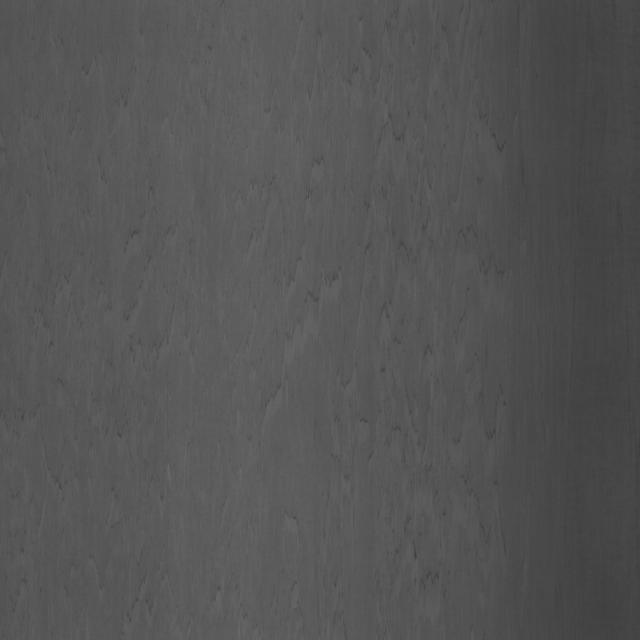inclusion: (254, 110, 428, 483), (437, 61, 539, 541)
